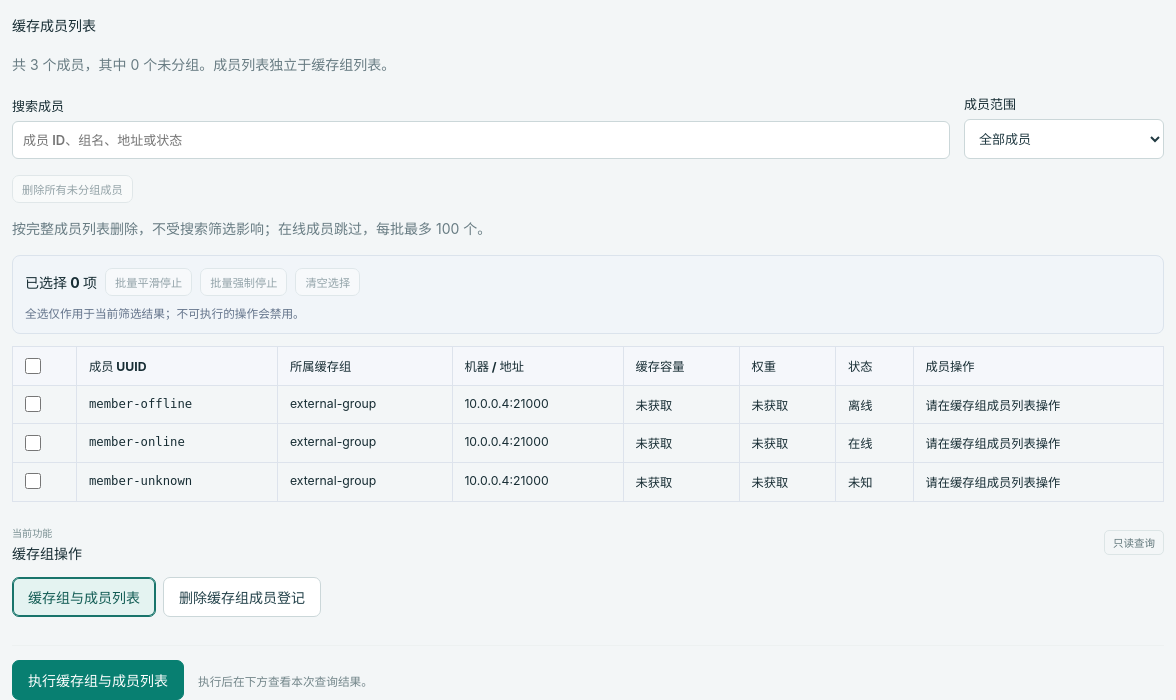
failed member deletion preserves the query; rejected refresh still blocks it
(page scrolled)
Click the button "删除缓存组成员登记". click: point(242, 597)
box: [163,577,321,617]
(page scrolled)
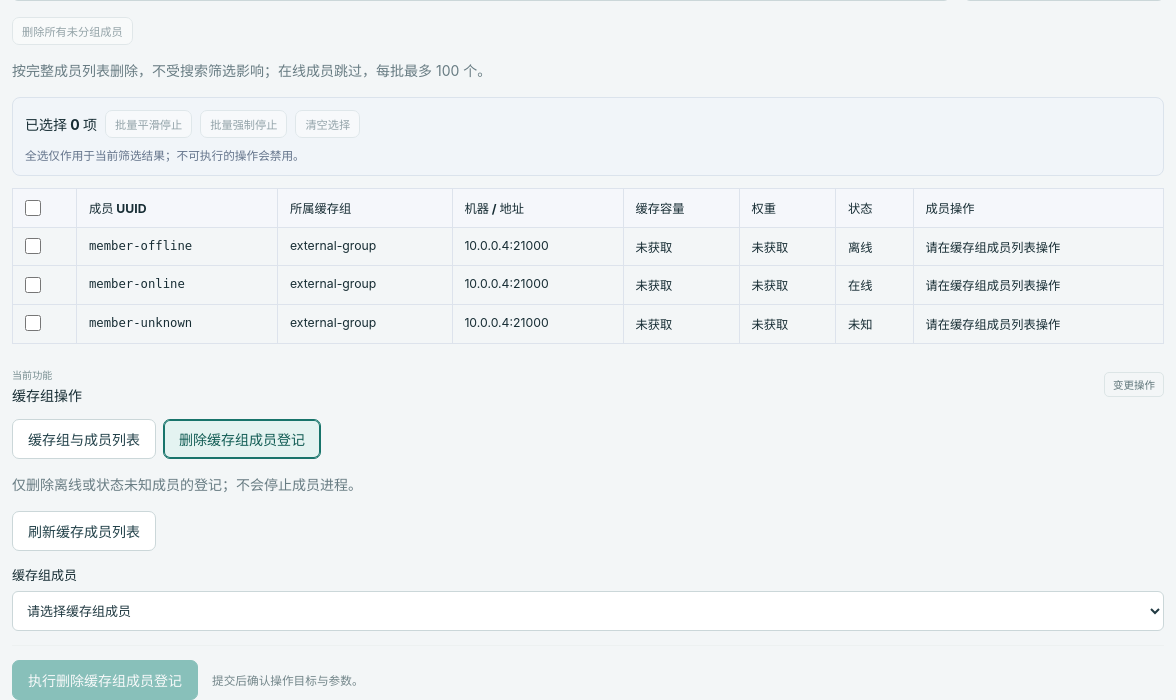
Select "external-group · member-offline · 10.0.0.4:21000 · 离线" in the dropdown labelled "缓存组成员". click: point(588, 611)
box: [12,591,1164,631]
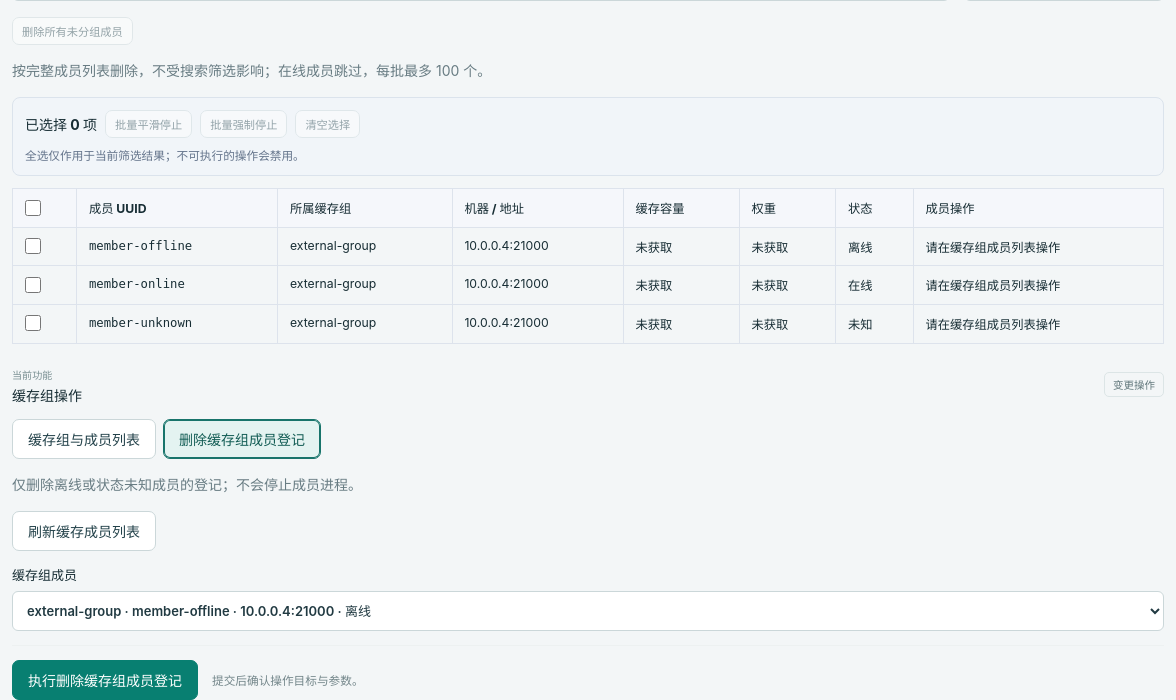
Expected: the button "执行删除缓存组成员登记" is enabled, [12,660,198,699]
Click the button "刷新缓存成员列表". click: point(84, 531)
box: [12,511,156,551]
(page scrolled)
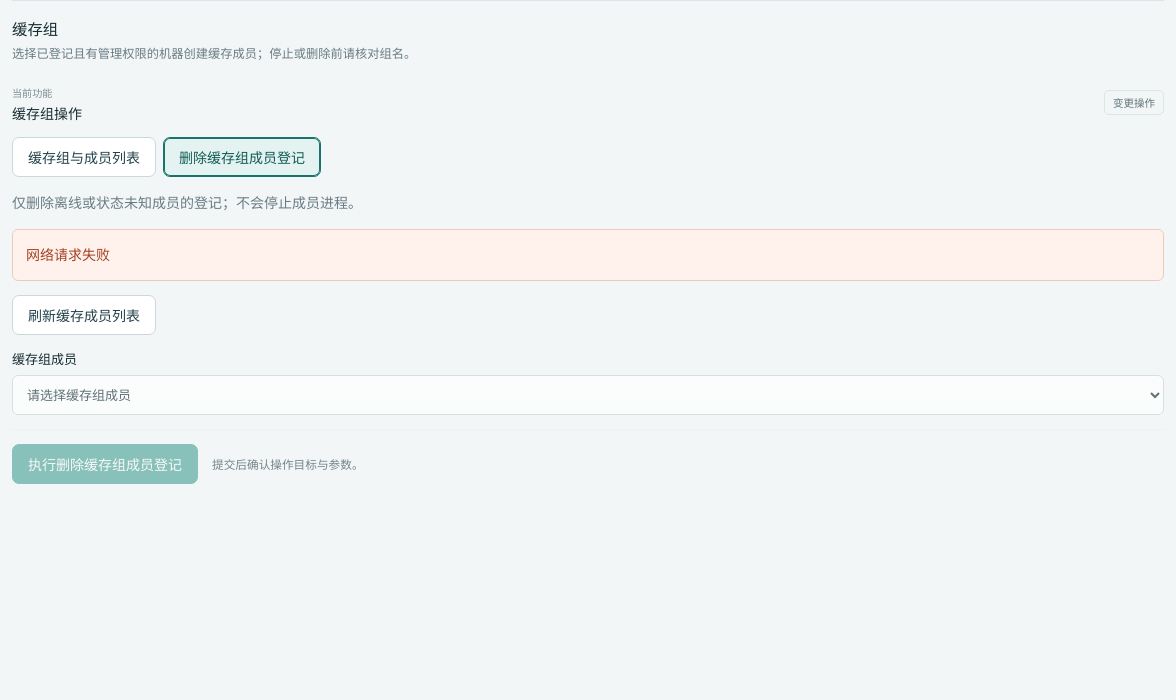
Expected: the message reads "网络请求失败", [26,246,110,263]
Expected: the button "执行删除缓存组成员登记" is disabled, [12,444,198,484]
Expected: the text "member-offline" is gone
